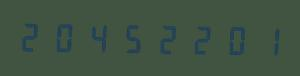five: (116, 19, 148, 55)
four: (83, 18, 115, 55)
one: (248, 21, 280, 58)
two: (17, 17, 49, 54), (149, 19, 181, 56), (182, 20, 214, 57)
zero: (50, 18, 82, 54), (215, 21, 247, 57)
